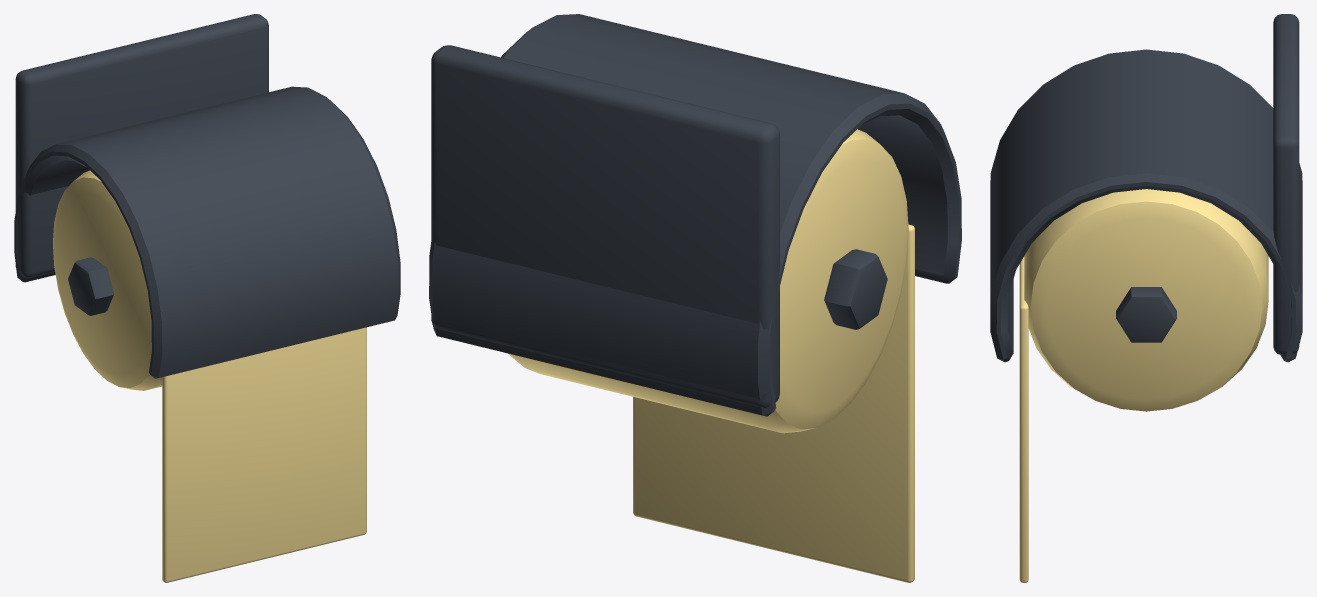
File: porta_papel_aberto_grafite.glb
3 renders of one model, left to right at view 1: azimuth 30°, elevation 25°; view 2: azimuth 150°, elevation 25°; view 3: azimuth 270°, elevation 25°, orthographic. The views are drawn at different scales.
Visible parts, largest first — view 1: porta_papel_aberto_grafite; view 2: porta_papel_aberto_grafite; view 3: porta_papel_aberto_grafite.
Boxes of the visible parts, left/top/right/bottom form: porta_papel_aberto_grafite: left=14, top=14, right=400, bottom=582; porta_papel_aberto_grafite: left=429, top=14, right=961, bottom=582; porta_papel_aberto_grafite: left=990, top=14, right=1302, bottom=582.
Bounding box in the file's own units: 0.144 × 0.23 × 0.1431.
1 material, 1 textured.
